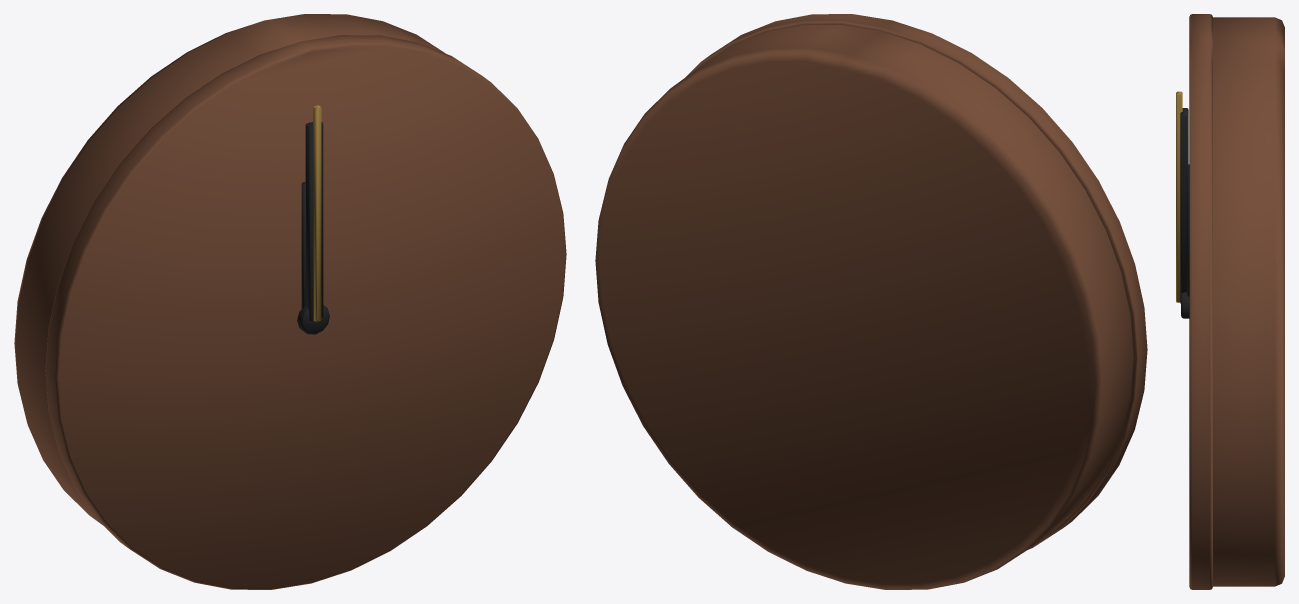
The model's file is asset_087_wall_clock.glb.
3 views of the same model, side by side, from view 1: azimuth 30°, elevation 25°; view 2: azimuth 150°, elevation 25°; view 3: azimuth 270°, elevation 25° (orthographic). The views are drawn at different scales.
Parts seen in each view (by area): view 1: MESH_ClockBezel, MESH_ClockCase, MESH_ClockMinuteHand, MESH_ClockSecondHand; view 2: MESH_ClockCase, MESH_ClockBezel; view 3: MESH_ClockCase, MESH_ClockBezel, MESH_ClockMinuteHand, MESH_ClockSecondHand, MESH_ClockHourHand, MESH_ClockBoss.
Boxes of the visible parts, bbox=[...] form: MESH_ClockBezel: bbox=[45, 35, 566, 589]; MESH_ClockCase: bbox=[14, 14, 445, 524]; MESH_ClockMinuteHand: bbox=[305, 122, 323, 320]; MESH_ClockSecondHand: bbox=[313, 105, 321, 321]; MESH_ClockCase: bbox=[595, 25, 1133, 589]; MESH_ClockBezel: bbox=[686, 14, 1147, 549]; MESH_ClockCase: bbox=[1213, 17, 1284, 586]; MESH_ClockBezel: bbox=[1189, 14, 1212, 589]; MESH_ClockMinuteHand: bbox=[1180, 108, 1188, 303]; MESH_ClockSecondHand: bbox=[1176, 91, 1182, 302]; MESH_ClockHourHand: bbox=[1187, 164, 1189, 296]; MESH_ClockBoss: bbox=[1181, 292, 1189, 318].
Size of the model in its own units: 0.344 by 0.344 by 0.065.
